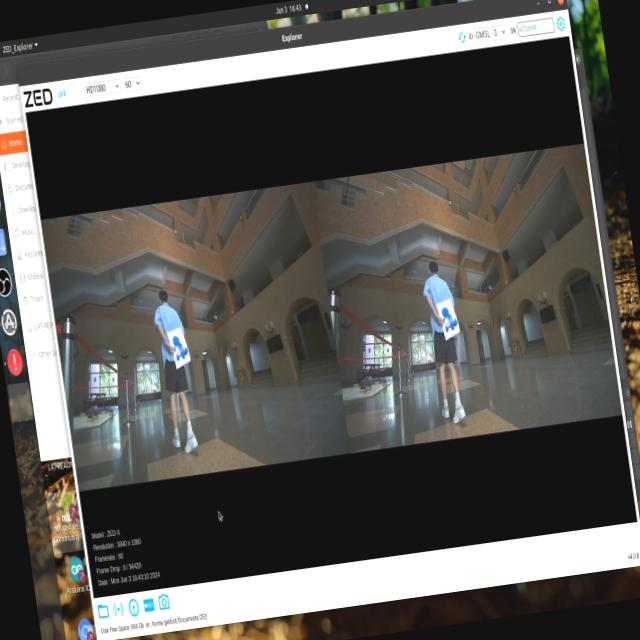blue: (172, 342, 194, 370), (441, 306, 455, 335)
